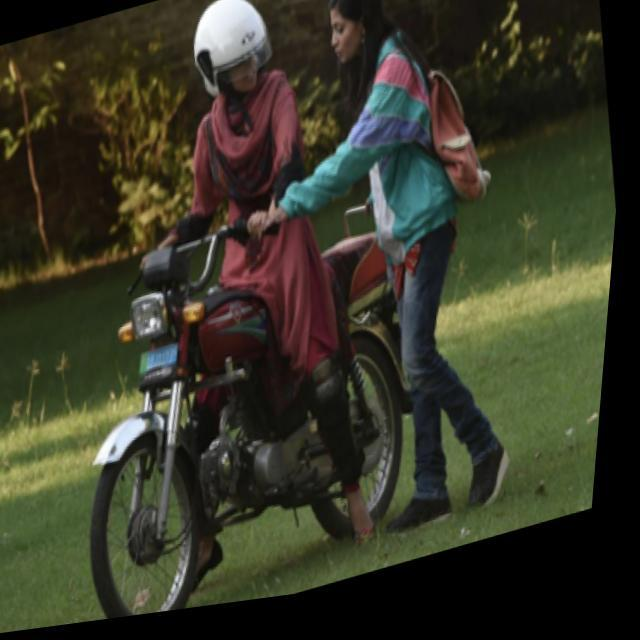Helmet: (186, 0, 277, 111)
Nonhelmet: (320, 0, 390, 67)
